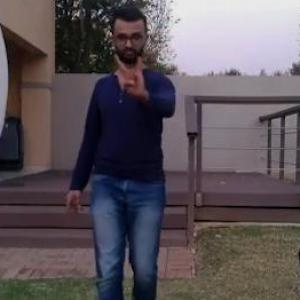takeoff-hand: (113, 45, 158, 102)
